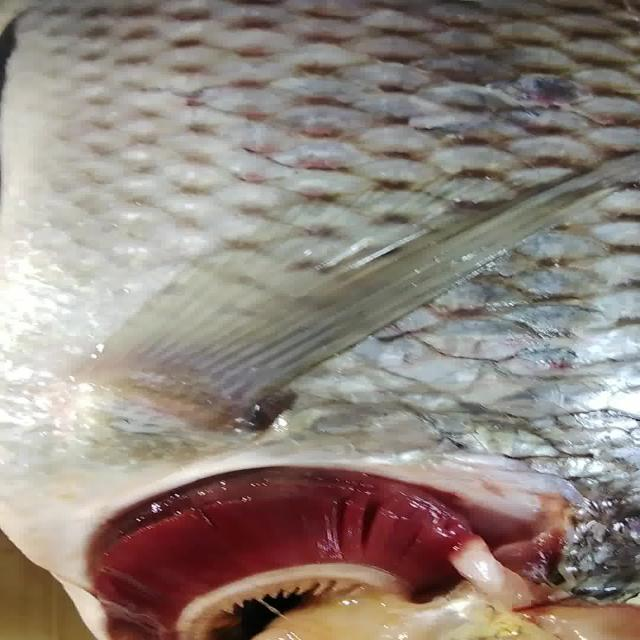Fresh: (59, 454, 484, 640)
